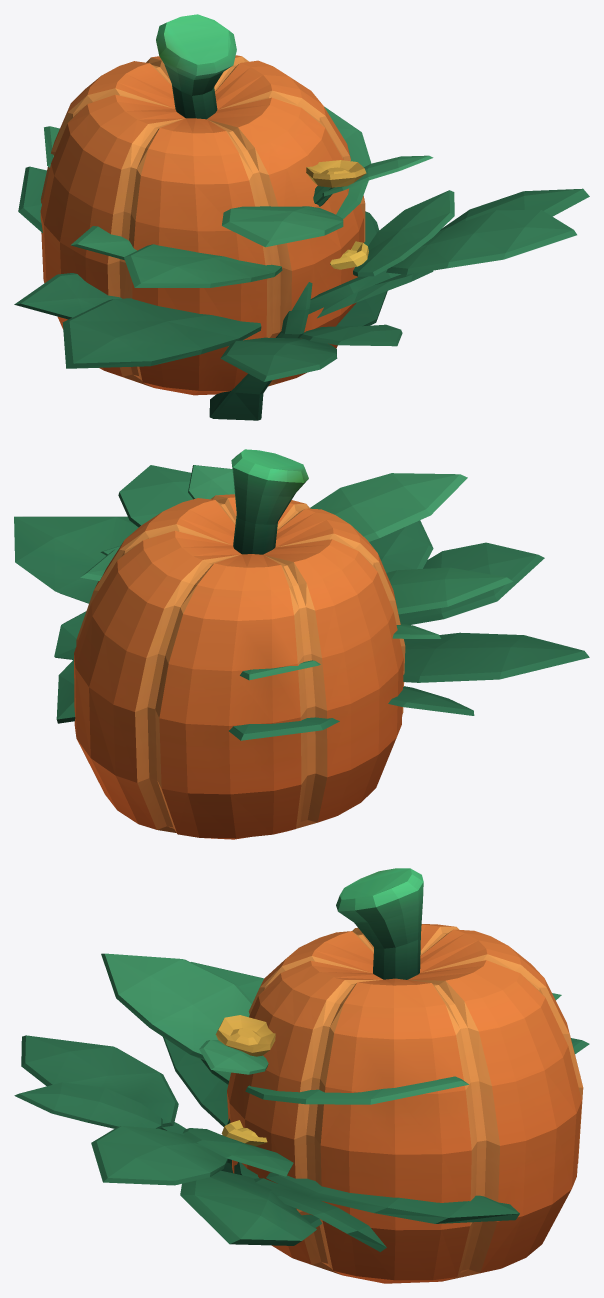
File: crop_pumpkin_stage3.glb
3 views of the same model, one above another, from view 1: azimuth 30°, elevation 25°; view 2: azimuth 150°, elevation 25°; view 3: azimuth 270°, elevation 25° (orthographic). The views are drawn at different scales.
Visible parts, largest first — view 1: crop_pumpkin_stage3; view 2: crop_pumpkin_stage3; view 3: crop_pumpkin_stage3.
Boxes of the visible parts, bbox=[...] form: crop_pumpkin_stage3: bbox=[14, 14, 589, 420]; crop_pumpkin_stage3: bbox=[14, 449, 589, 839]; crop_pumpkin_stage3: bbox=[14, 868, 589, 1283].
Size of the model in its own units: 0.66 by 0.4 by 0.574.
1 material, 1 textured.
